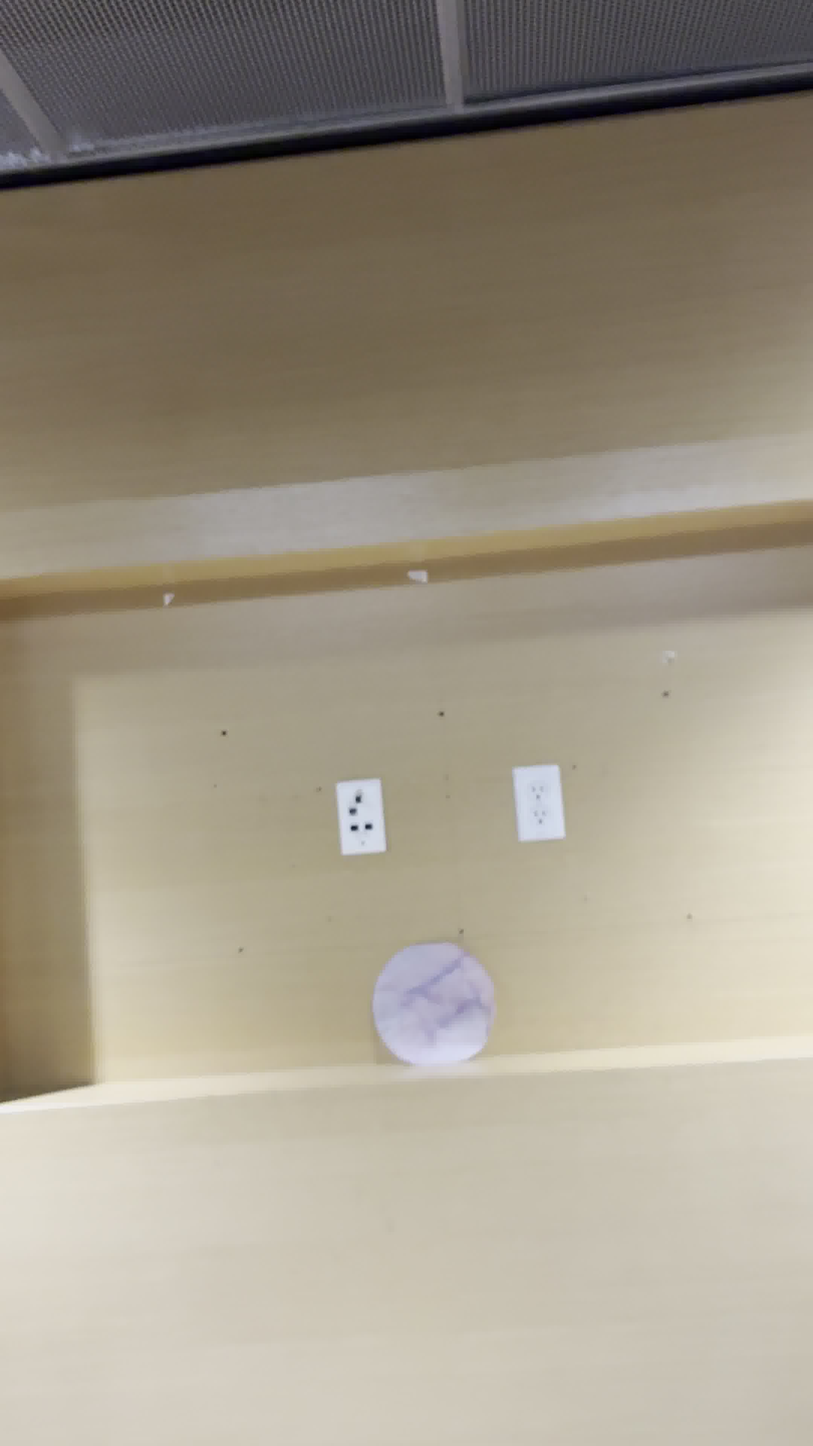Target: (373, 949, 495, 1075)
